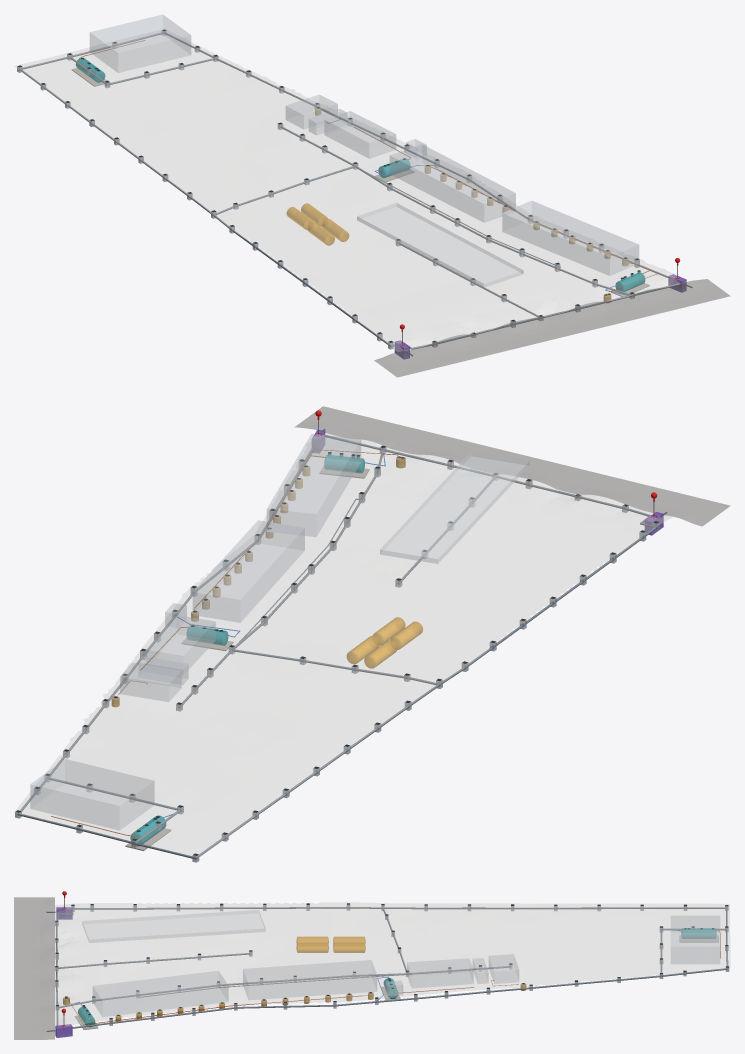
The picture shows the model from 3 angles, top to bottom: view 1: azimuth 30°, elevation 25°; view 2: azimuth 150°, elevation 25°; view 3: azimuth 270°, elevation 25°; orthographic projection. The views are drawn at different scales.
Visible parts, largest first — view 1: Forecourt and paving, Highway side and entrances, Shop building 2 (6 units), Pump canopy, Shop building 1 (6 units), Star Park (toilets and rest area), Toilets, Office, Site drain: west side to the south-west oil trap, Site drain: east side to the south-east oil trap, Site drain: along the office, toilets and shop fronts, Pump room and 20,000 L water tank; view 2: Forecourt and paving, Highway side and entrances, Pump canopy, Shop building 1 (6 units), Shop building 2 (6 units), Star Park (toilets and rest area), Toilets, Office, Site drain: west side to the south-west oil trap, Site drain: east side to the south-east oil trap, Pump room and 20,000 L water tank, Site drain: along the office, toilets and shop fronts (+1 smaller); view 3: Forecourt and paving, Highway side and entrances, Shop building 2 (6 units), Shop building 1 (6 units), Pump canopy, Star Park (toilets and rest area), Toilets, Site drain: east side to the south-east oil trap, Site drain: west side to the south-west oil trap, Site drain: along the office, toilets and shop fronts, Office, Site drain: beside the canopy (+7 smaller).
Boxes of the visible parts, left/top/right/bottom form: Forecourt and paving: left=14, top=29, right=686, bottom=351; Highway side and entrances: left=374, top=279, right=730, bottom=377; Shop building 2 (6 units): left=502, top=201, right=638, bottom=275; Pump canopy: left=357, top=203, right=523, bottom=287; Shop building 1 (6 units): left=390, top=144, right=515, bottom=222; Star Park (toilets and rest area): left=90, top=14, right=190, bottom=72; Toilets: left=324, top=111, right=395, bottom=158; Office: left=286, top=94, right=337, bottom=129; Site drain: west side to the south-west oil trap: left=19, top=69, right=397, bottom=346; Site drain: east side to the south-east oil trap: left=164, top=32, right=668, bottom=277; Site drain: along the office, toilets and shop fronts: left=279, top=126, right=630, bottom=294; Pump room and 20,000 L water tank: left=309, top=109, right=346, bottom=135; Forecourt and paving: left=14, top=433, right=672, bottom=857; Highway side and entrances: left=295, top=406, right=730, bottom=526; Pump canopy: left=380, top=451, right=529, bottom=563; Shop building 1 (6 units): left=193, top=520, right=304, bottom=622; Shop building 2 (6 units): left=267, top=434, right=360, bottom=536; Star Park (toilets and rest area): left=30, top=759, right=154, bottom=830; Toilets: left=146, top=615, right=215, bottom=674; Office: left=120, top=663, right=181, bottom=701; Site drain: west side to the south-west oil trap: left=196, top=524, right=657, bottom=858; Site drain: east side to the south-east oil trap: left=20, top=443, right=316, bottom=811; Pump room and 20,000 L water tank: left=138, top=656, right=188, bottom=684; Site drain: along the office, toilets and shop fronts: left=178, top=449, right=383, bottom=707; Forecourt and paving: left=55, top=902, right=730, bottom=1028; Highway side and entrances: left=14, top=897, right=54, bottom=1039; Shop building 2 (6 units): left=93, top=971, right=228, bottom=1016; Shop building 1 (6 units): left=243, top=960, right=376, bottom=999; Pump canopy: left=82, top=910, right=265, bottom=942; Star Park (toilets and rest area): left=671, top=916, right=719, bottom=963; Toilets: left=407, top=958, right=473, bottom=988; Site drain: east side to the south-east oil trap: left=72, top=968, right=727, bottom=1028; Site drain: west side to the south-west oil trap: left=72, top=907, right=725, bottom=910; Site drain: along the office, toilets and shop fronts: left=58, top=966, right=510, bottom=1008; Office: left=489, top=954, right=518, bottom=983; Site drain: beside the canopy: left=57, top=953, right=250, bottom=968.
Size of the model in its own units: 78 by 9.88 by 166.
